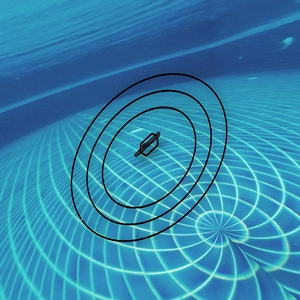circle: (69, 68, 230, 243)
submarine: (134, 129, 160, 155)
